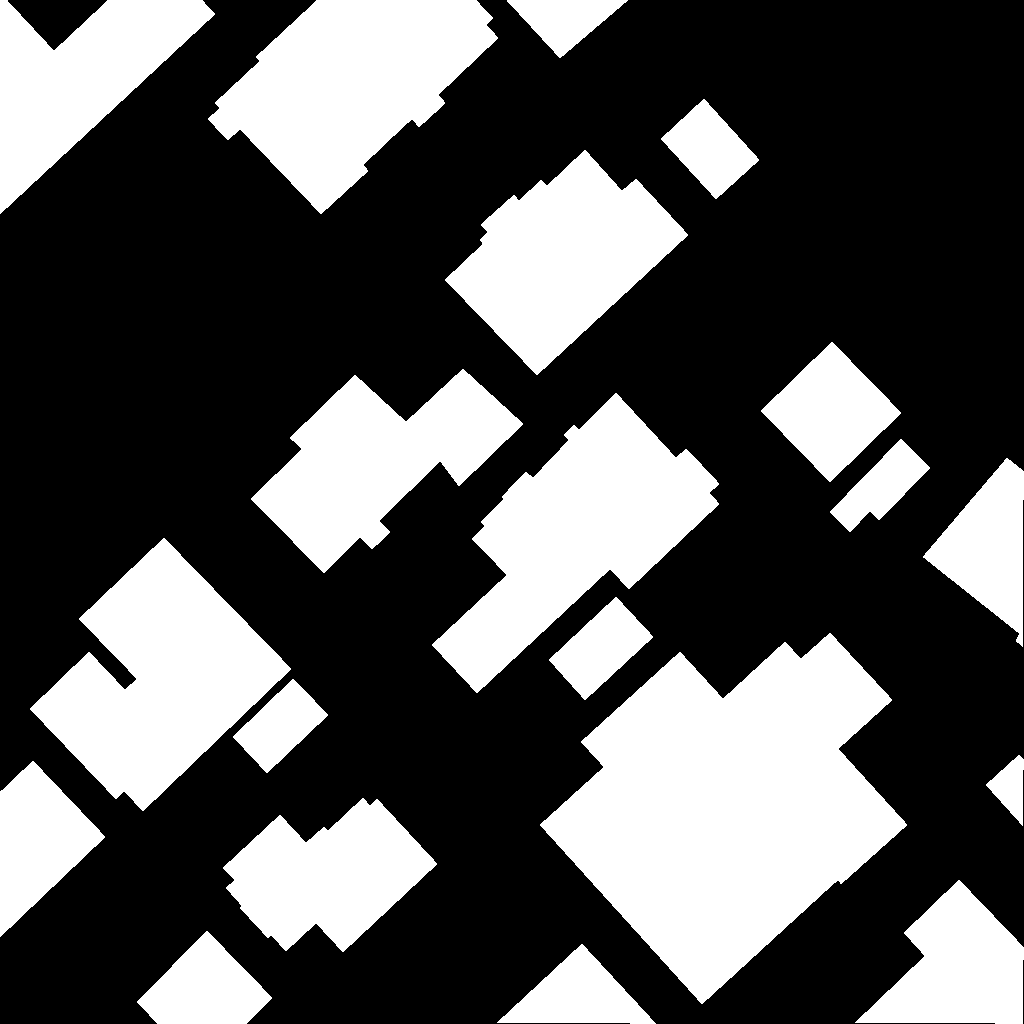building: (540, 633, 908, 1005), (432, 393, 720, 694), (30, 538, 292, 812), (208, 0, 499, 215), (251, 369, 524, 574), (445, 150, 689, 376), (0, 0, 216, 215), (223, 798, 438, 953), (855, 880, 1024, 1024), (761, 342, 902, 483), (923, 458, 1024, 648), (0, 761, 106, 938), (497, 944, 657, 1024), (137, 931, 273, 1024), (549, 597, 654, 701), (661, 99, 760, 200), (830, 439, 931, 533), (233, 679, 329, 774), (506, 0, 629, 59), (986, 755, 1024, 827)
